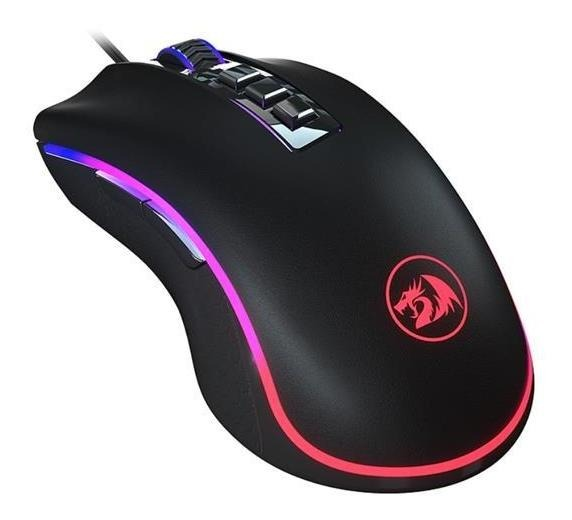mouse: (27, 38, 539, 497)
